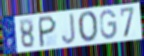7: (120, 6, 136, 39)
8: (19, 18, 36, 50)
G: (99, 9, 118, 41)
J: (61, 12, 77, 46)
O: (77, 10, 98, 44)
P: (39, 15, 58, 49)
